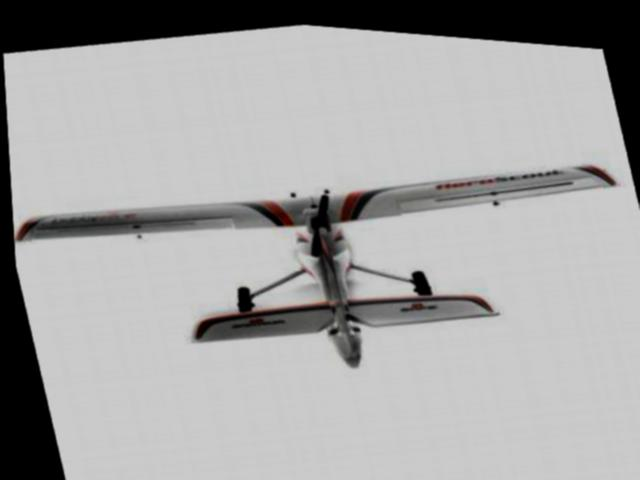uav: (5, 100, 640, 439)
